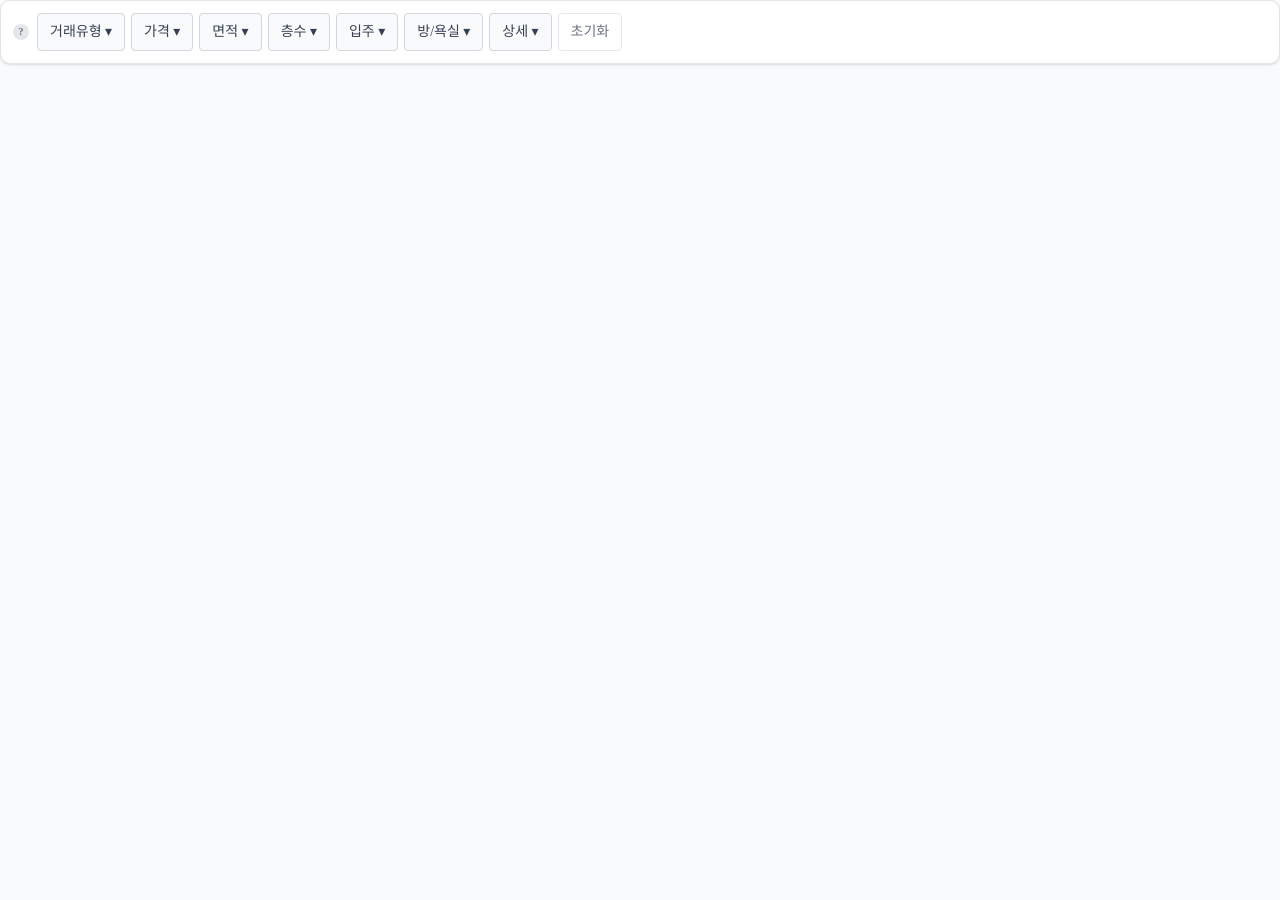
Test: FilterBar — 매물유형 옵션 › 상세 드롭다운에 확장된 매물유형 옵션 표시
The image size is (1280, 900).
Click the button "상세 ▾" at [520, 32], box left=489, top=13, right=552, bottom=51
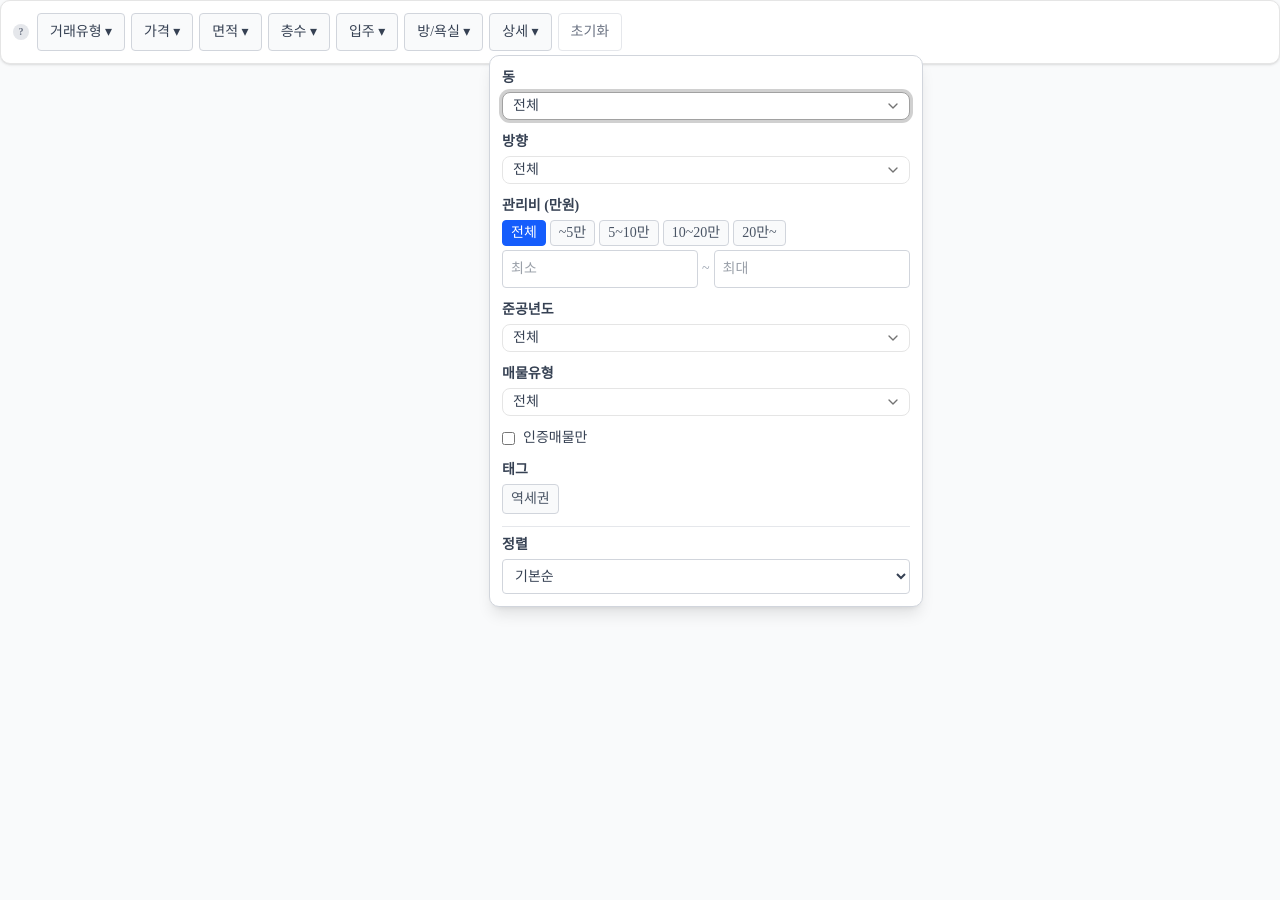
Click the dropdown named "매물유형 선택" at [526, 402], box left=502, top=388, right=910, bottom=416
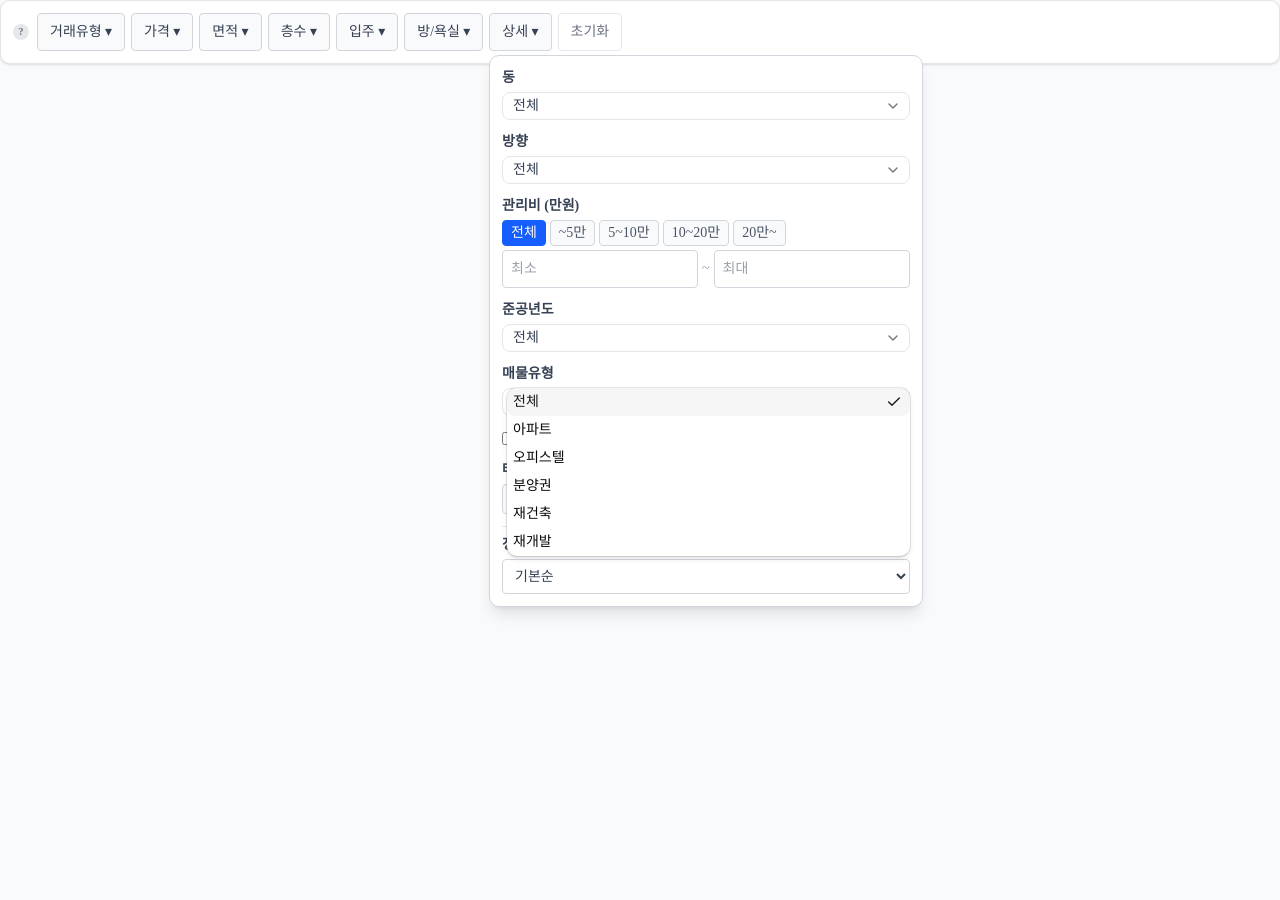
Check: the option "아파트" is shown, box left=513, top=422, right=552, bottom=437
Check: the option "오피스텔" is shown, box left=513, top=450, right=564, bottom=465
Check: the option "분양권" is shown, box left=513, top=478, right=552, bottom=493
